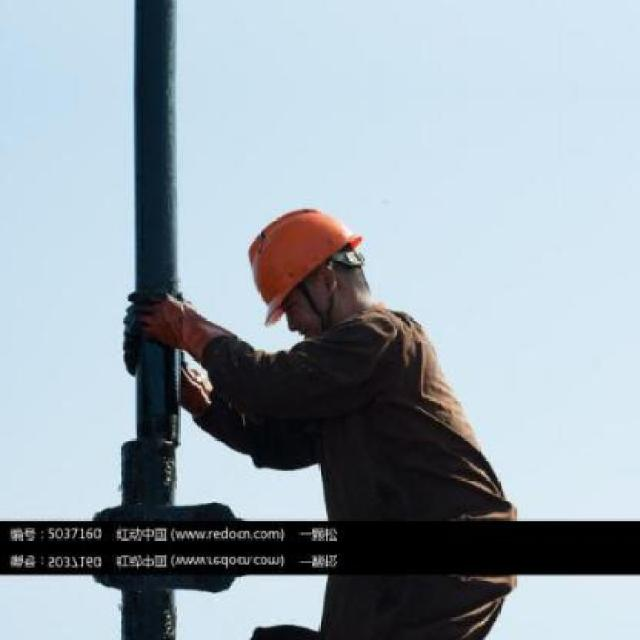helmet: (230, 183, 382, 346)
